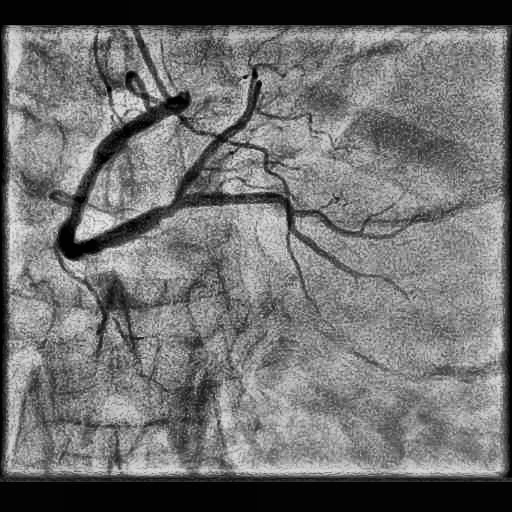pborca: (176, 67, 261, 197)
pda: (177, 192, 361, 276)
rca: (57, 96, 184, 260)
